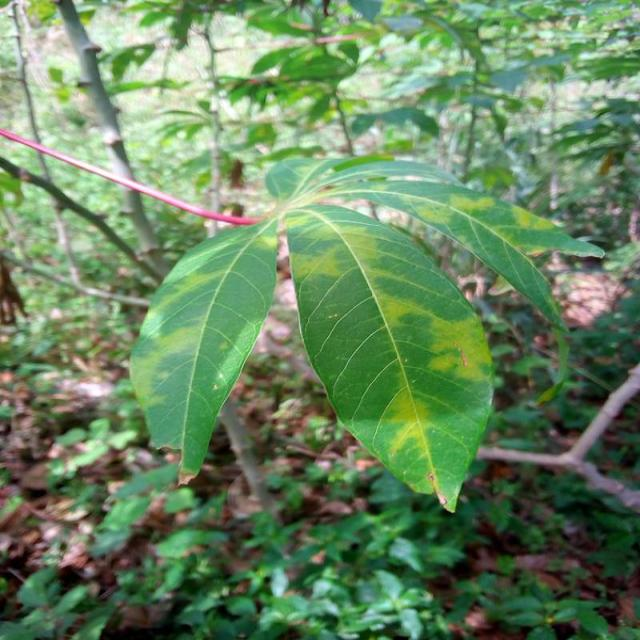cassava leaf: (283, 200, 495, 513), (128, 213, 278, 484)
